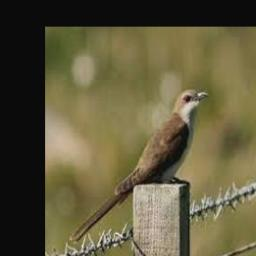Cuckoo: (71, 89, 209, 242)
